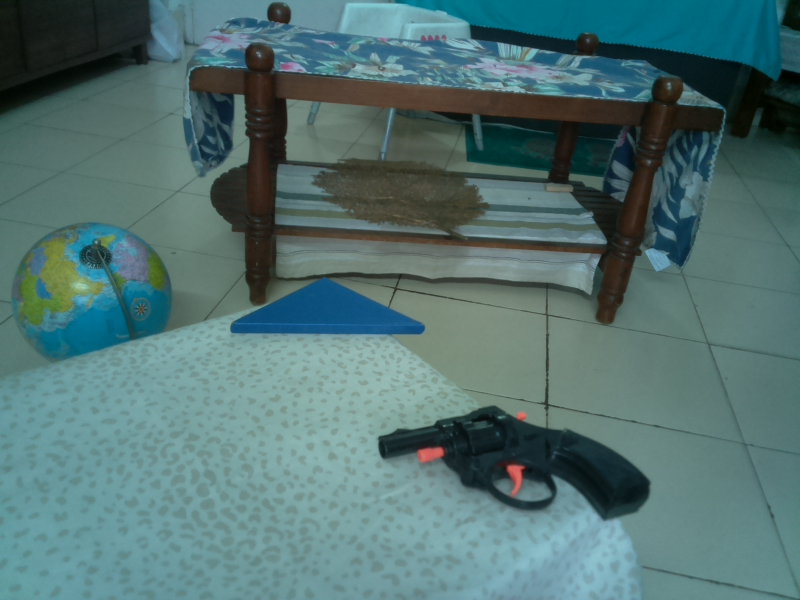Gun: (373, 399, 656, 524)
Triangle: (230, 272, 431, 342)
